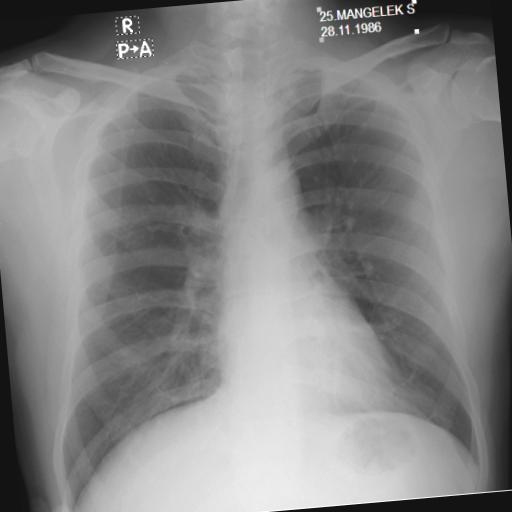normal: (14, 9, 494, 512)
